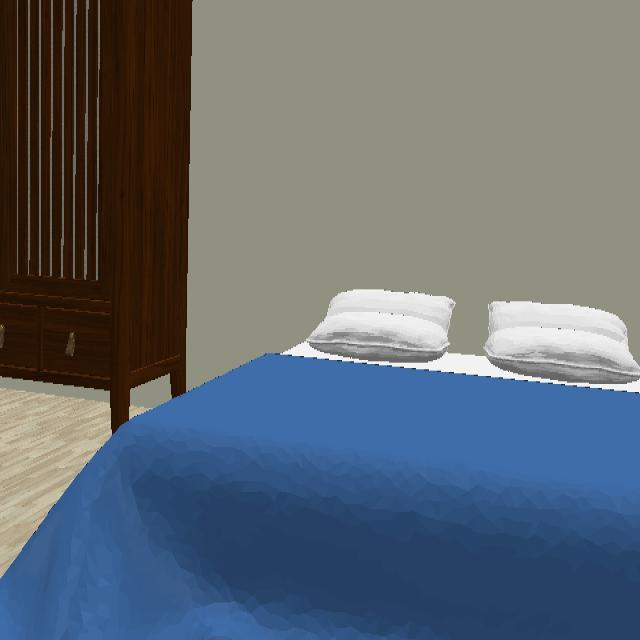bed: (0, 289, 640, 640)
pillow: (482, 301, 640, 395), (328, 289, 456, 367)
